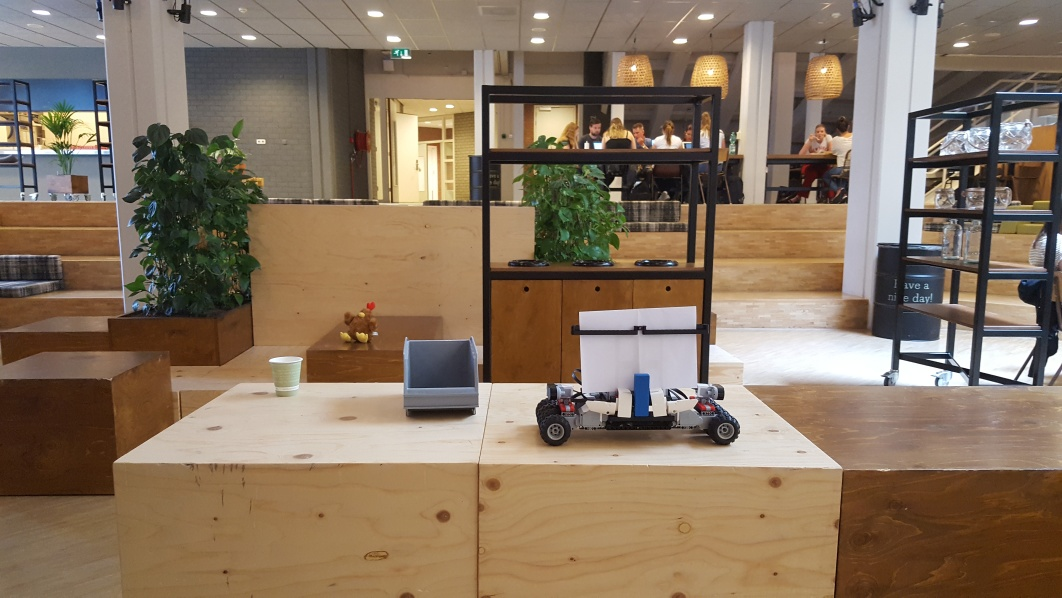car: (535, 305, 742, 449)
chicken: (341, 301, 380, 346)
cup: (270, 355, 304, 400)
tray: (397, 337, 484, 415)
